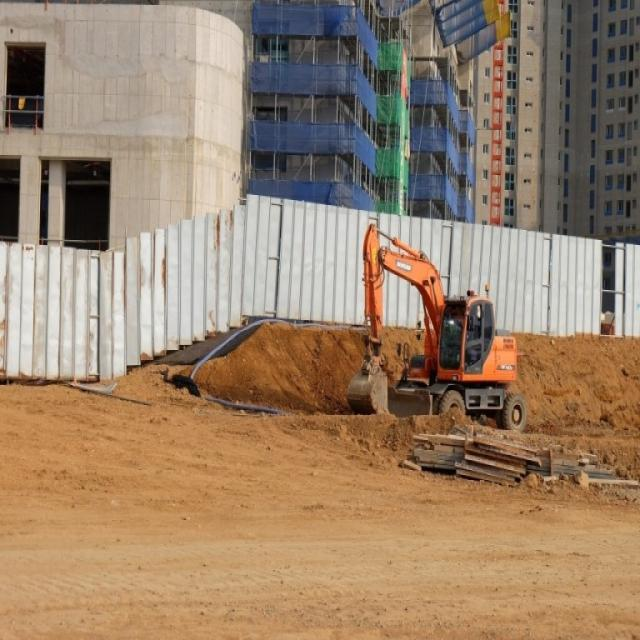excavator: (346, 222, 526, 432)
